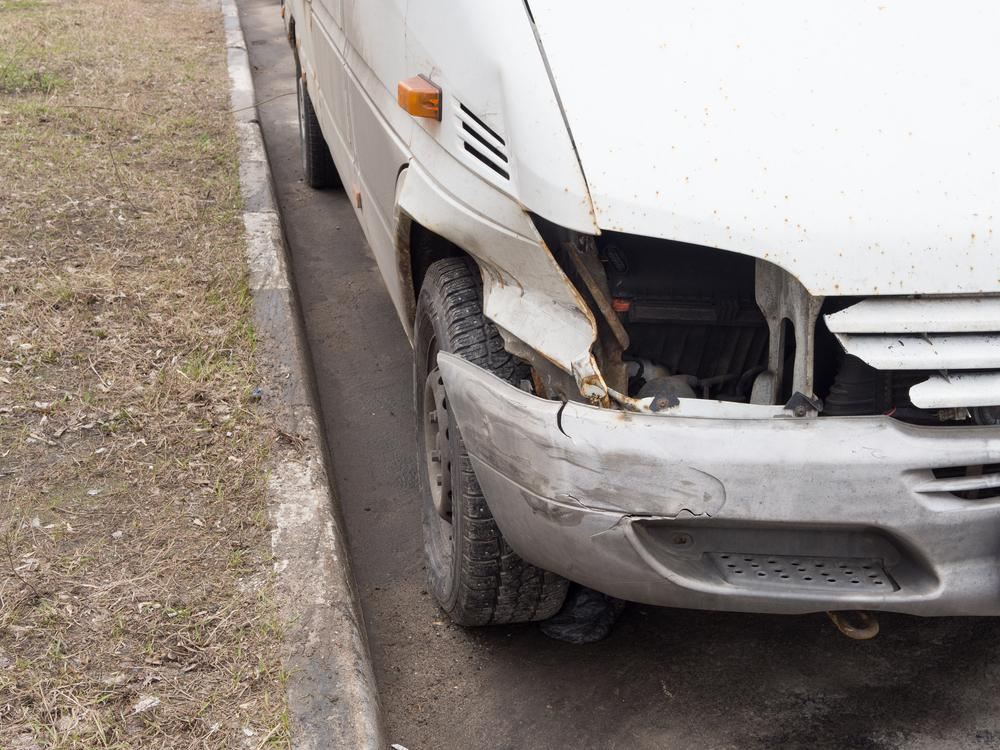crack: (567, 467, 727, 536), (557, 401, 571, 440)
dent: (467, 234, 596, 367)
scratch: (452, 373, 721, 523)
